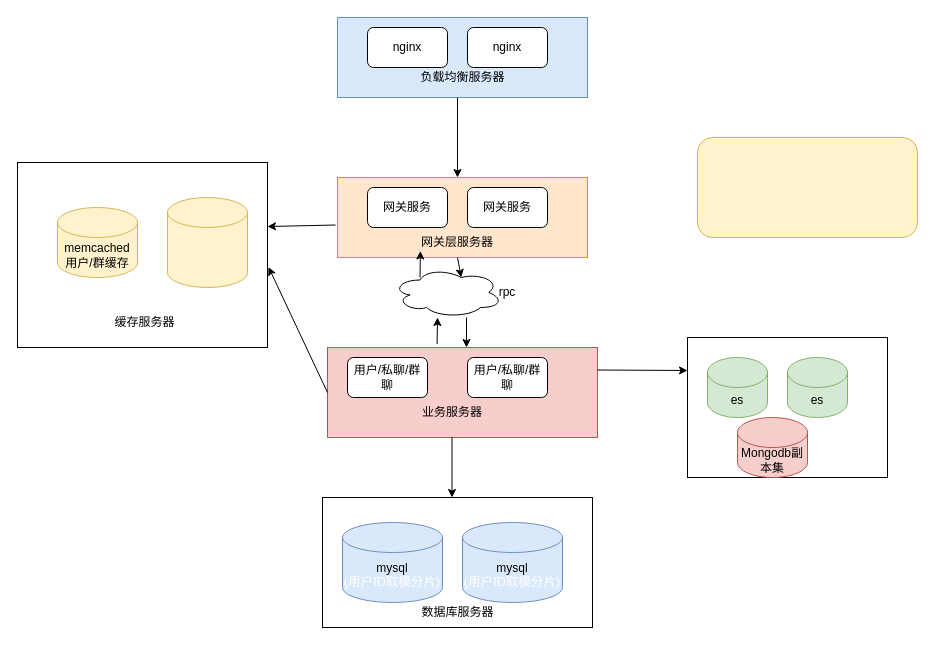
Image size: 935x645. Some labels were removed from this diagram. Each missing label, with the centre of its shape:
Prometheus Grafana Gitlab Jenkins 操作服务器: the point at 807,187
redis集群 离线消息/会话: the point at 207,242
阿里云高可用: the point at 447,292
